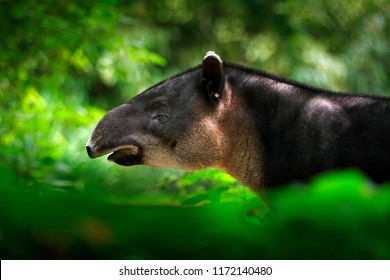Anta: (82, 46, 384, 192)
